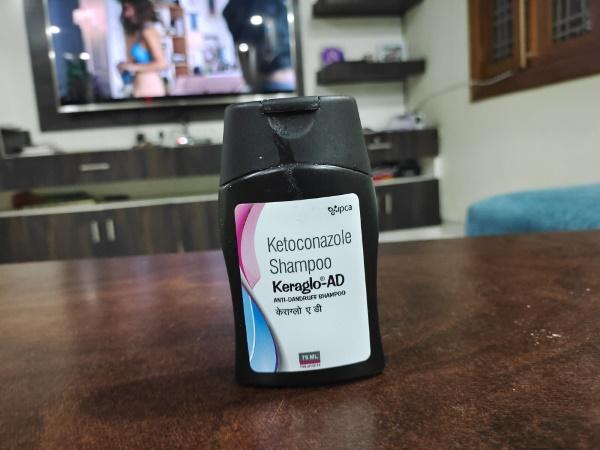KeraGlo: (204, 89, 397, 398)
